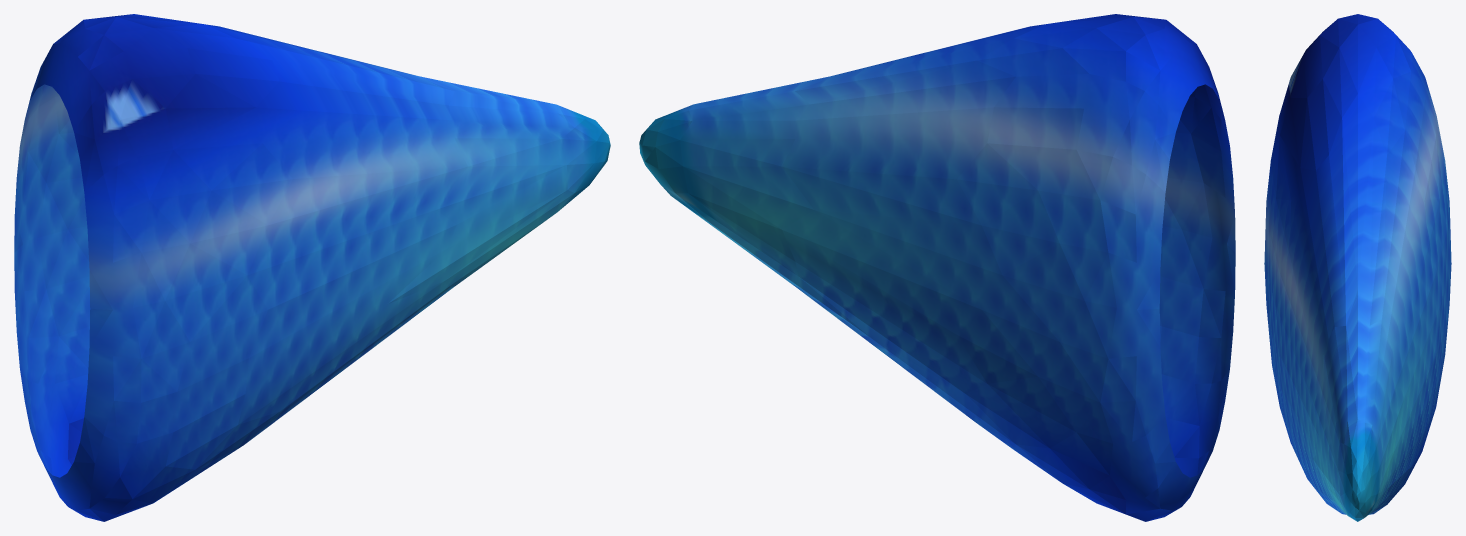
Rendered from Fish5_1_new11.dae.
3 renders of one model, left to right at view 1: azimuth 30°, elevation 25°; view 2: azimuth 150°, elevation 25°; view 3: azimuth 270°, elevation 25°, orthographic. The views are drawn at different scales.
Parts seen in each view (by area): view 1: Cube_Cube_001; view 2: Cube_Cube_001; view 3: Cube_Cube_001.
Boxes of the visible parts, box(x1,y1,x2,y2) form: Cube_Cube_001: box(14, 14, 610, 521); Cube_Cube_001: box(639, 14, 1235, 521); Cube_Cube_001: box(1264, 14, 1451, 521).
Size of the model in its own units: 5.59 by 1.68 by 4.75.
Materials: 1 (1 with a texture image).
